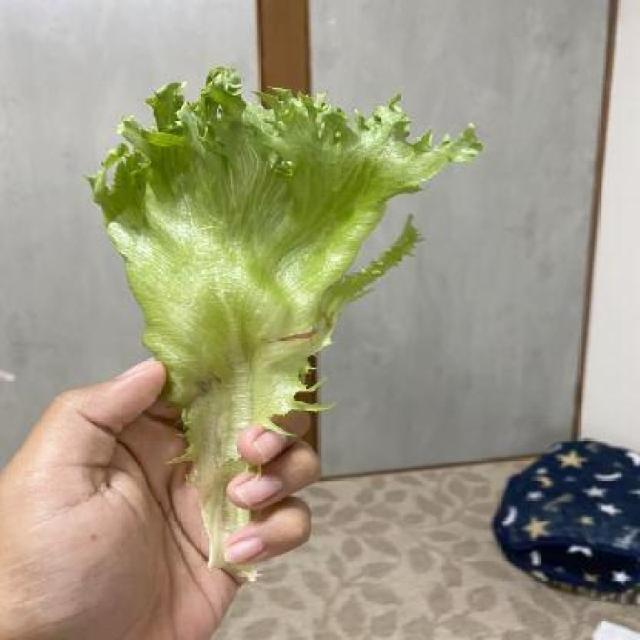Lettuce: (87, 60, 479, 542)
